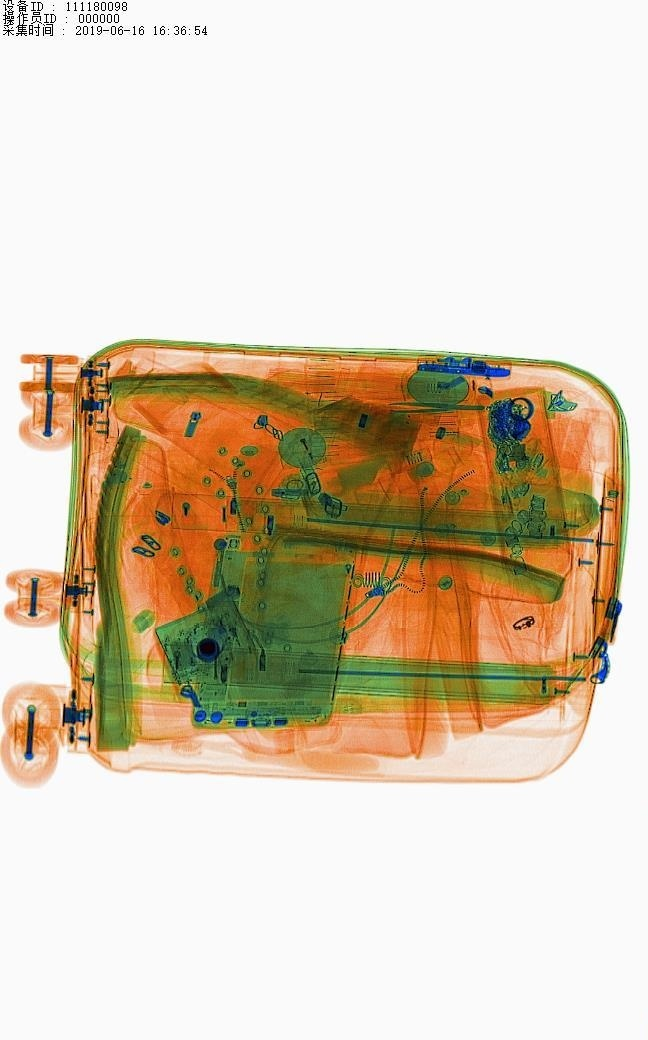NonmetallicFire: (270, 408, 339, 479)
